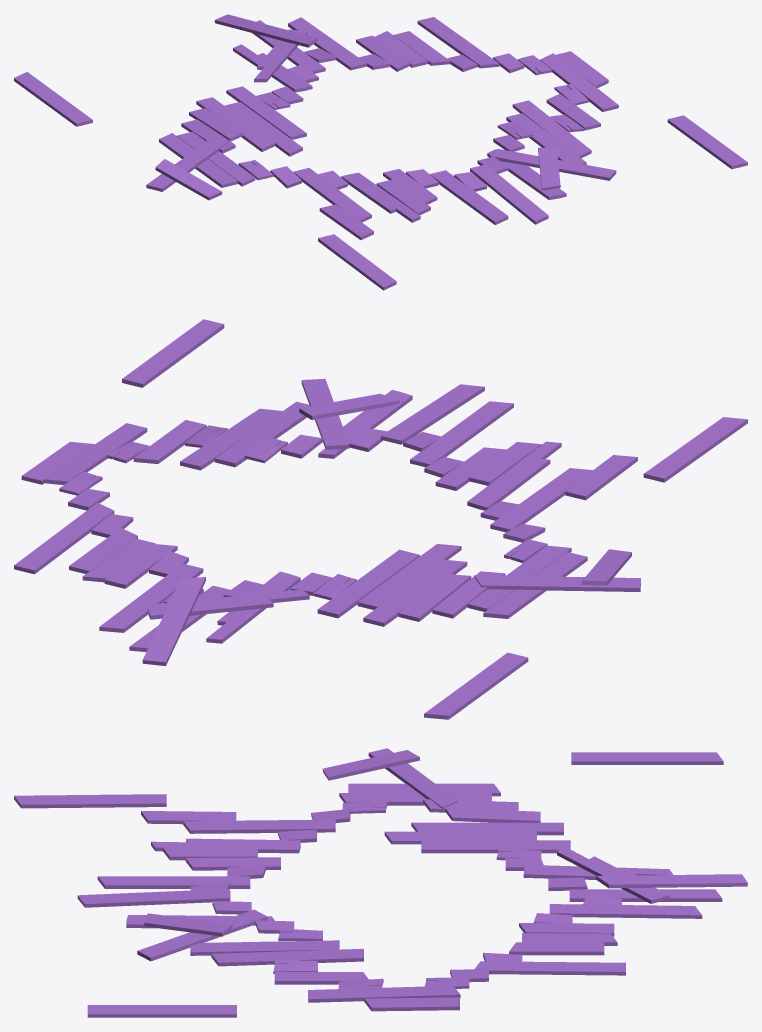
Rendered from Floor_Hole_01_Board_Lod0.fbx.
3 views of the same model, one above another, from view 1: azimuth 30°, elevation 25°; view 2: azimuth 150°, elevation 25°; view 3: azimuth 270°, elevation 25° (orthographic). The views are drawn at different scales.
Visible parts, largest first — view 1: Floor_Hole_01_Board_Lod0; view 2: Floor_Hole_01_Board_Lod0; view 3: Floor_Hole_01_Board_Lod0.
Part boxes in pixels (bbox=[...]): Floor_Hole_01_Board_Lod0: bbox=[14, 14, 747, 290]; Floor_Hole_01_Board_Lod0: bbox=[14, 319, 747, 719]; Floor_Hole_01_Board_Lod0: bbox=[14, 748, 747, 1017].
Size of the model in its own units: 478 by 19.27 by 553.
